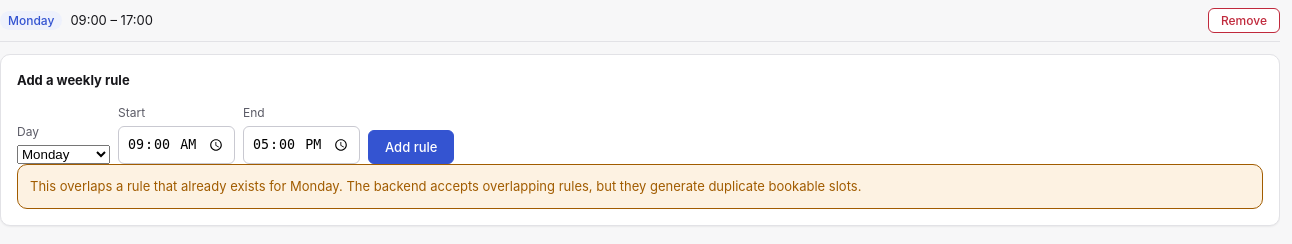
AvailabilityRulesPanel › warns about an overlap the backend would silently accept, without blocking it
expect the text "overlaps a rule that already exists for Monday" is shown: met, box [30,178,861,194]
expect the button "Add rule" is enabled: met, box [368,130,454,164]
Note: Moving to a free day clears the warning.
Step 1. Select "Thursday" in the dropdown labelled "Day" → [64, 154], box [17,144,110,164]
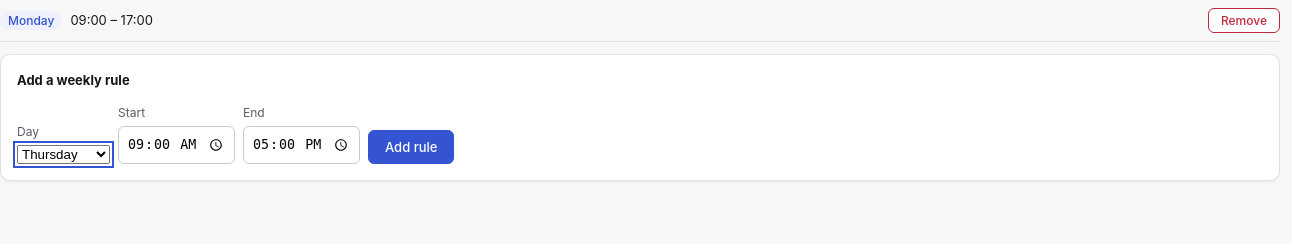
expect the text "overlaps a rule that already exists" is gone: met
